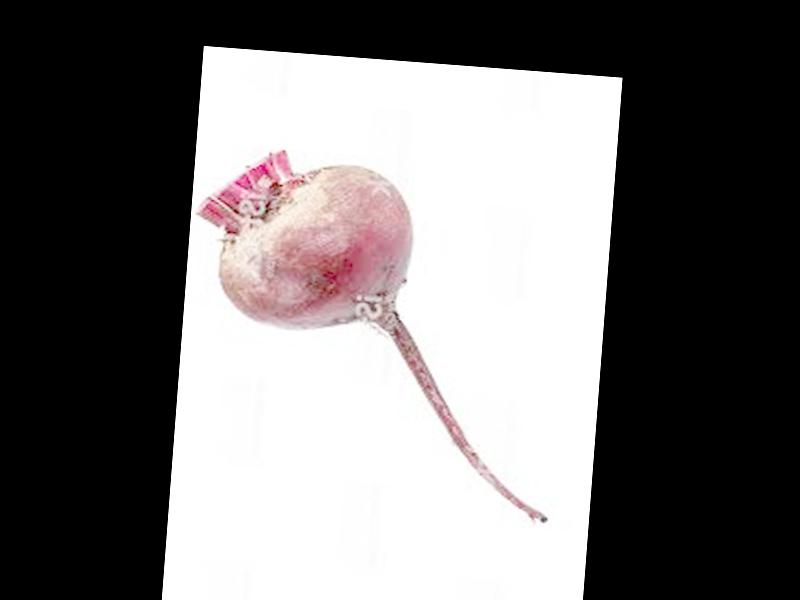Beet: (174, 146, 571, 523)
